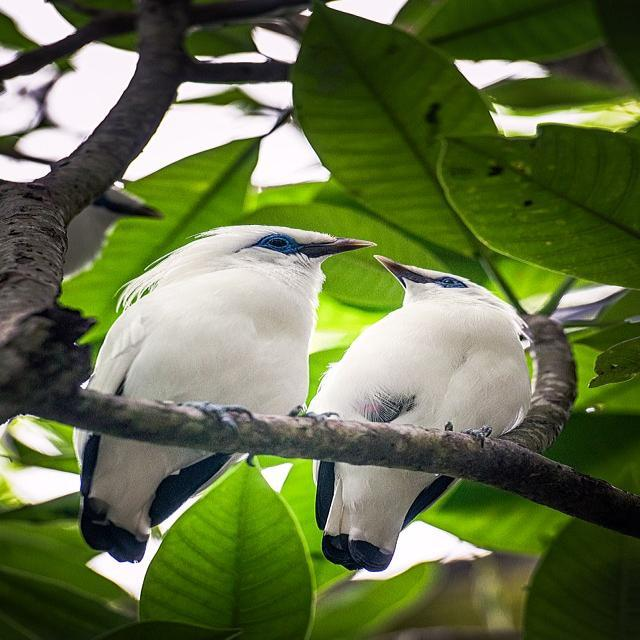Jalak Bali: (49, 186, 382, 595), (304, 236, 578, 600)
